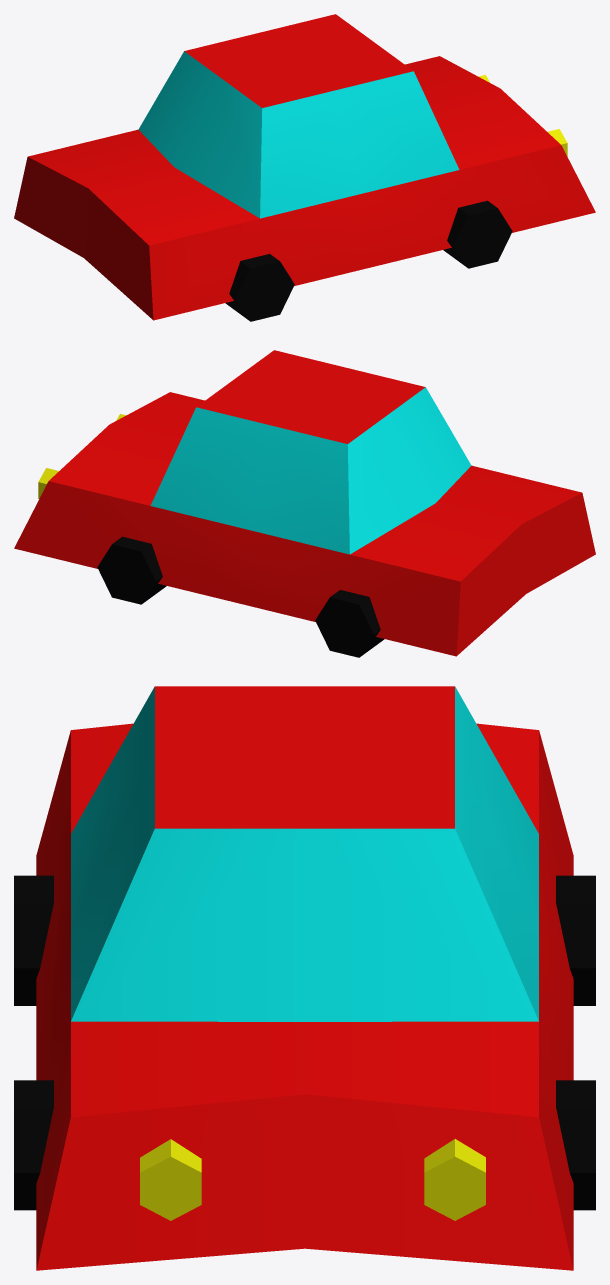
File: autito02.fbx
3 views of the same model, one above another, from view 1: azimuth 30°, elevation 25°; view 2: azimuth 150°, elevation 25°; view 3: azimuth 270°, elevation 25° (orthographic). The views are drawn at different scales.
Parts seen in each view (by area): view 1: autoBody_geo, neumaticosDelanteros_geo, neumaticosTraseros_geo; view 2: autoBody_geo, neumaticosDelanteros_geo, neumaticosTraseros_geo; view 3: autoBody_geo, neumaticosTraseros_geo, neumaticosDelanteros_geo, focoIZQ_geo, focoDER_geo.
Part boxes in pixels (x1,y1,x2,y2): autoBody_geo: [14, 14, 595, 320]; neumaticosDelanteros_geo: [443, 200, 512, 268]; neumaticosTraseros_geo: [225, 254, 294, 321]; autoBody_geo: [14, 350, 595, 656]; neumaticosDelanteros_geo: [97, 536, 166, 604]; neumaticosTraseros_geo: [315, 590, 384, 657]; autoBody_geo: [36, 686, 573, 1270]; neumaticosTraseros_geo: [14, 875, 595, 1005]; neumaticosDelanteros_geo: [14, 1080, 595, 1210]; focoIZQ_geo: [424, 1139, 485, 1220]; focoDER_geo: [140, 1139, 201, 1220].
Bounding box in the file's own units: 405 × 153 × 240.
